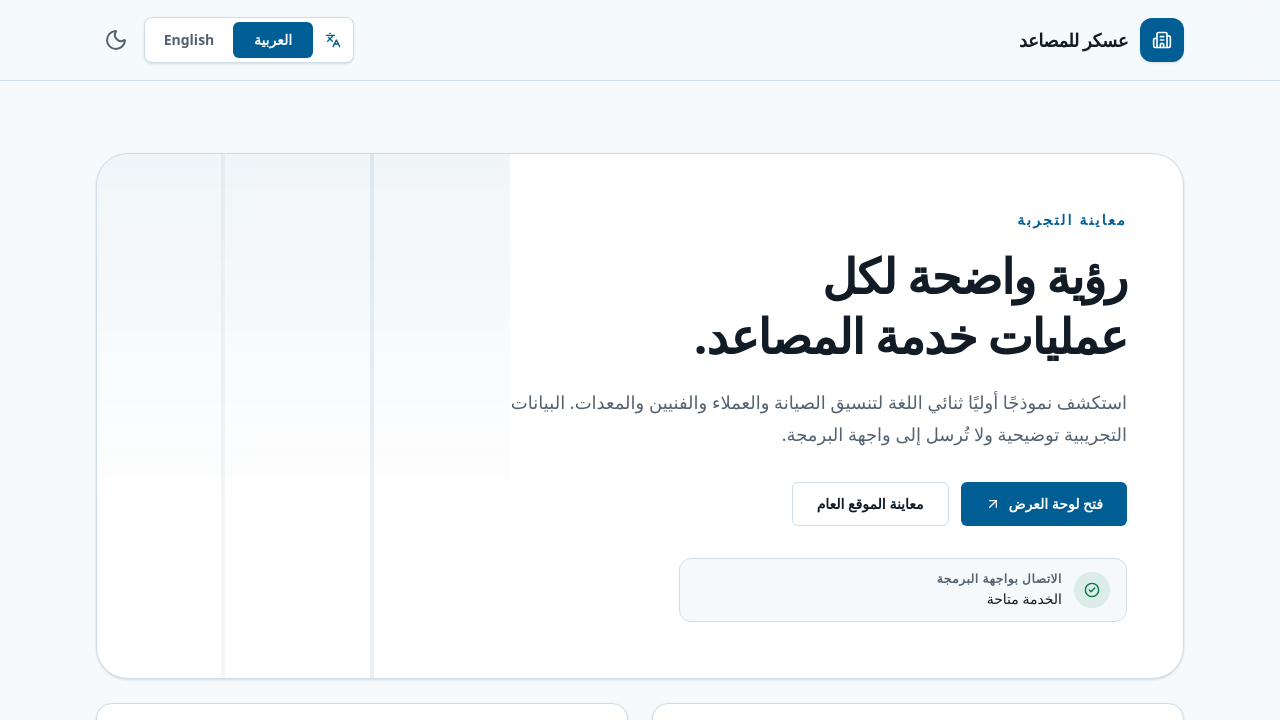
App › switches to English and updates language, direction, and text
Click the button "English" at (189, 40), box [149,22,229,58]
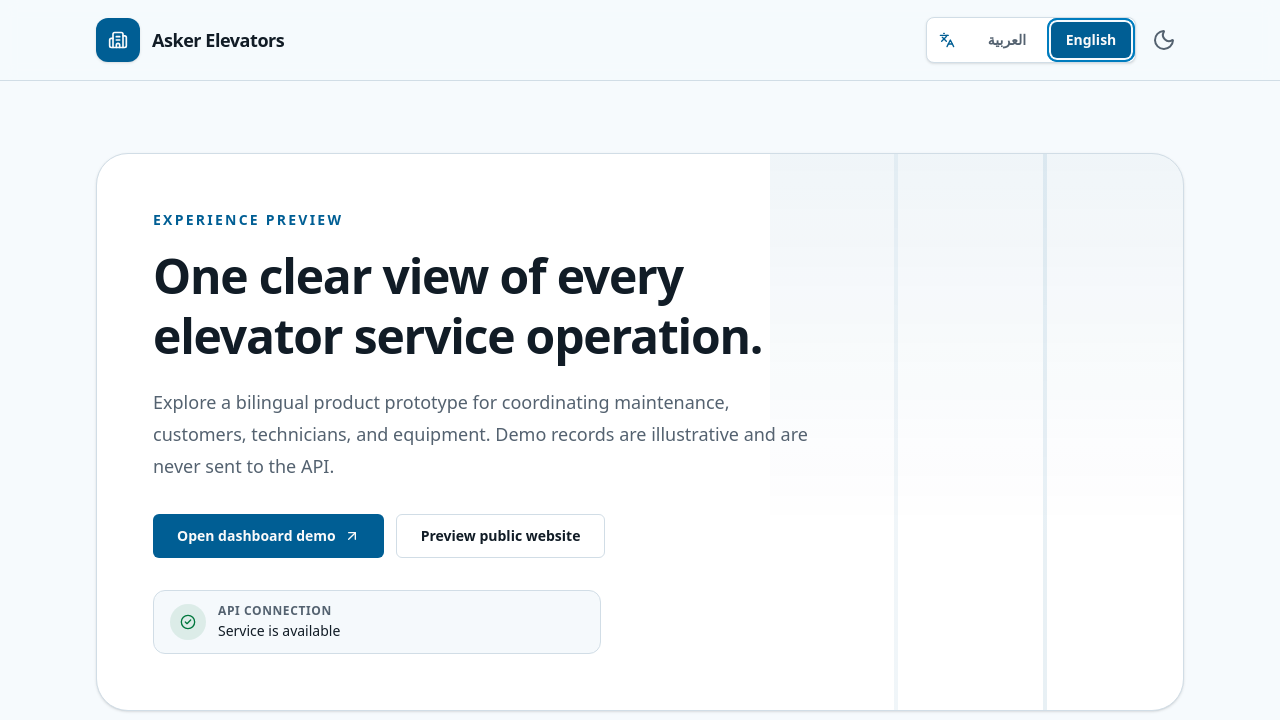
Check: the heading "One clear view of every elevator service operation." is shown, box [153,246,825,366]
